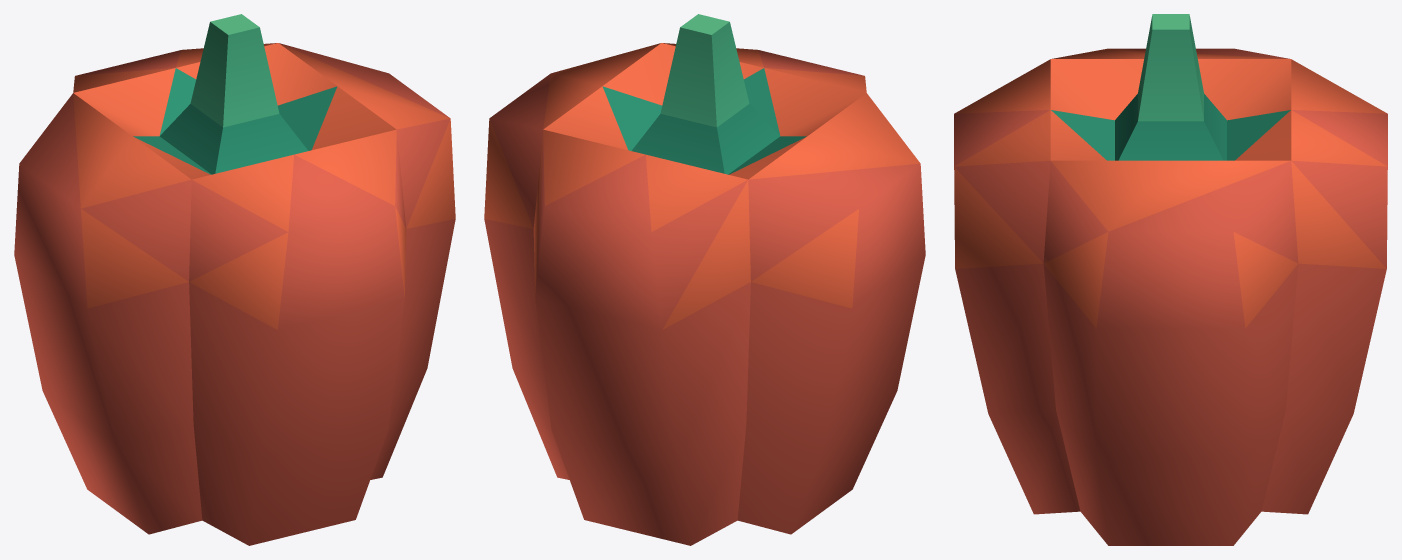
The model's file is pimentao.glb.
3 renders of one model, left to right at view 1: azimuth 30°, elevation 25°; view 2: azimuth 150°, elevation 25°; view 3: azimuth 270°, elevation 25°, orthographic.
Parts seen in each view (by area): view 1: paprika; view 2: paprika; view 3: paprika.
Part boxes in pixels (<box>): paprika: <box>14,14,455,545</box>; paprika: <box>484,14,925,545</box>; paprika: <box>954,14,1387,545</box>.
Bounding box in the file's own units: 0.1681 × 0.1993 × 0.1681.
